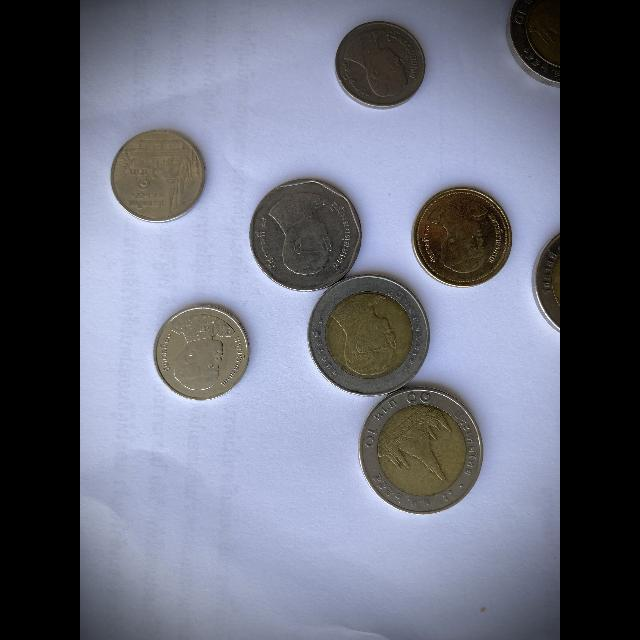1 Bath: (153, 301, 254, 409), (110, 126, 211, 228), (333, 17, 431, 112)
10 Bath: (359, 384, 487, 518), (309, 273, 433, 400), (502, 1, 565, 96), (530, 226, 565, 339)
2 Bath: (409, 184, 512, 291)
5 Bath: (247, 175, 366, 296)
